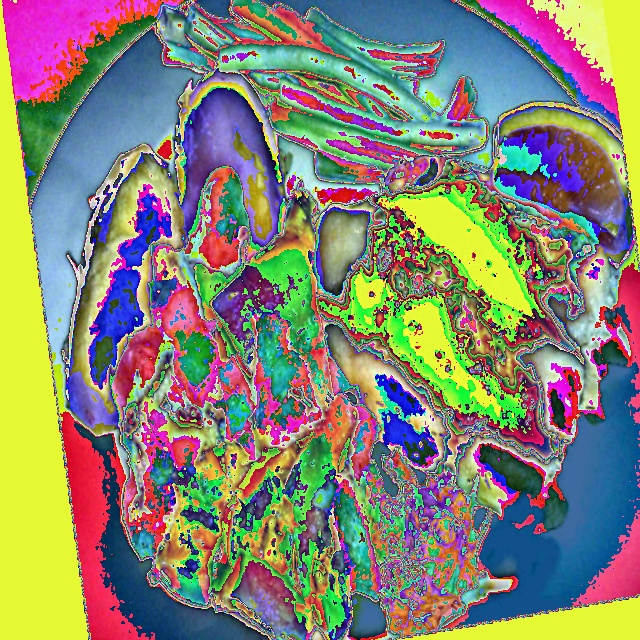background: (62, 0, 634, 640)
